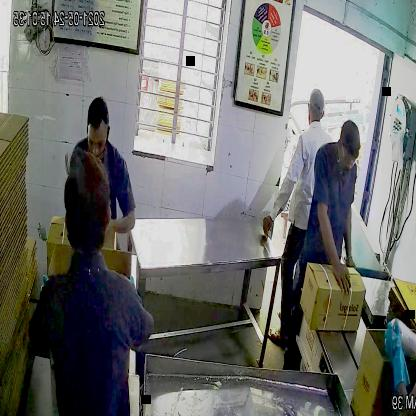goggles: (84, 132, 111, 156), (338, 147, 361, 168)
